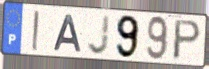9: (115, 14, 142, 60), (145, 14, 170, 63)
A: (52, 14, 83, 54)
I: (31, 9, 40, 53)
J: (86, 13, 112, 56)
P: (171, 18, 203, 61)
